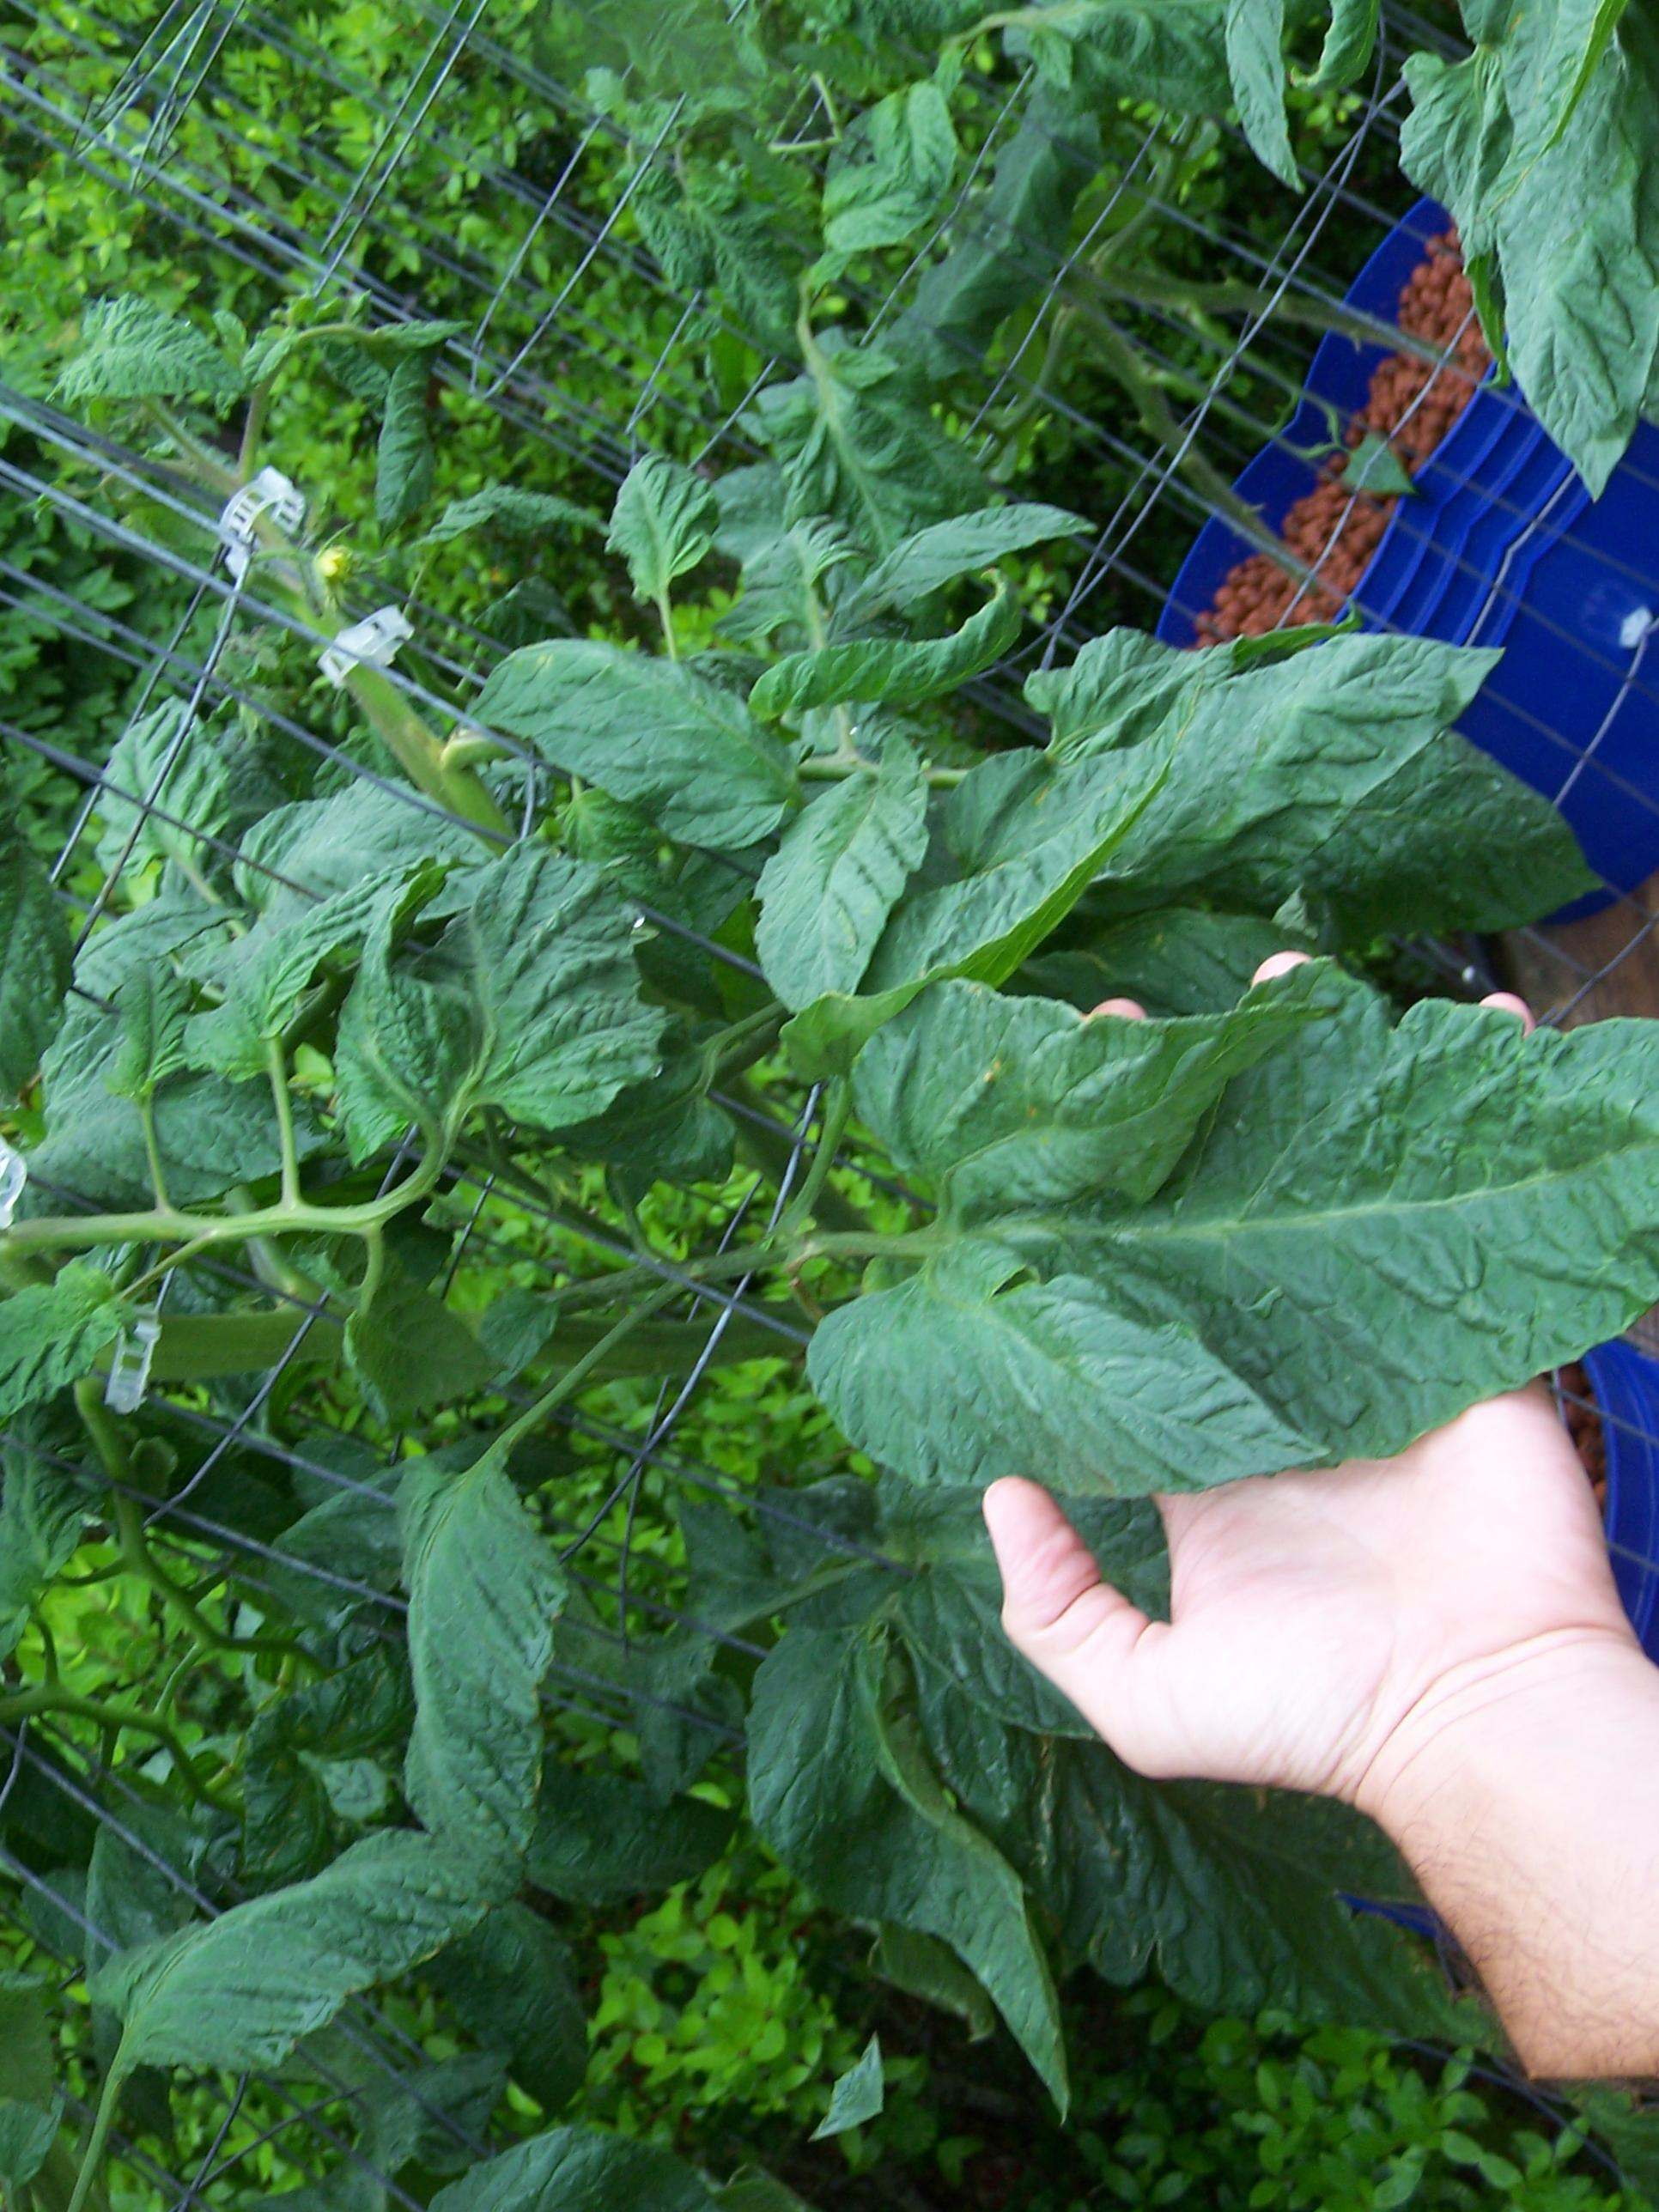Tomato leaf: (791, 653, 1659, 1810), (911, 463, 1514, 1123), (284, 1458, 662, 1858), (453, 587, 857, 934), (387, 840, 702, 1176), (704, 723, 1000, 1076), (0, 1202, 162, 1529), (561, 421, 749, 625)
